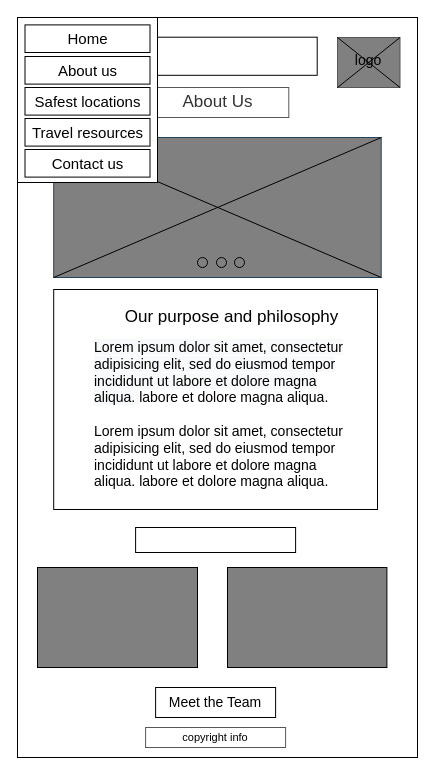
This 435x775 diagram has some shape labels left out. Grey dashed boxes stand in for pictures. The centre of each missing label's shape, as x and y in pixels:
"About us in media:" goes at (x=215, y=539).
"Covid Travel Agent" goes at (x=217, y=55).
"frame with media 1" goes at (x=117, y=617).
"frame with media 2" goes at (x=306, y=617).
"image carousel of safest locations" goes at (x=217, y=207).
